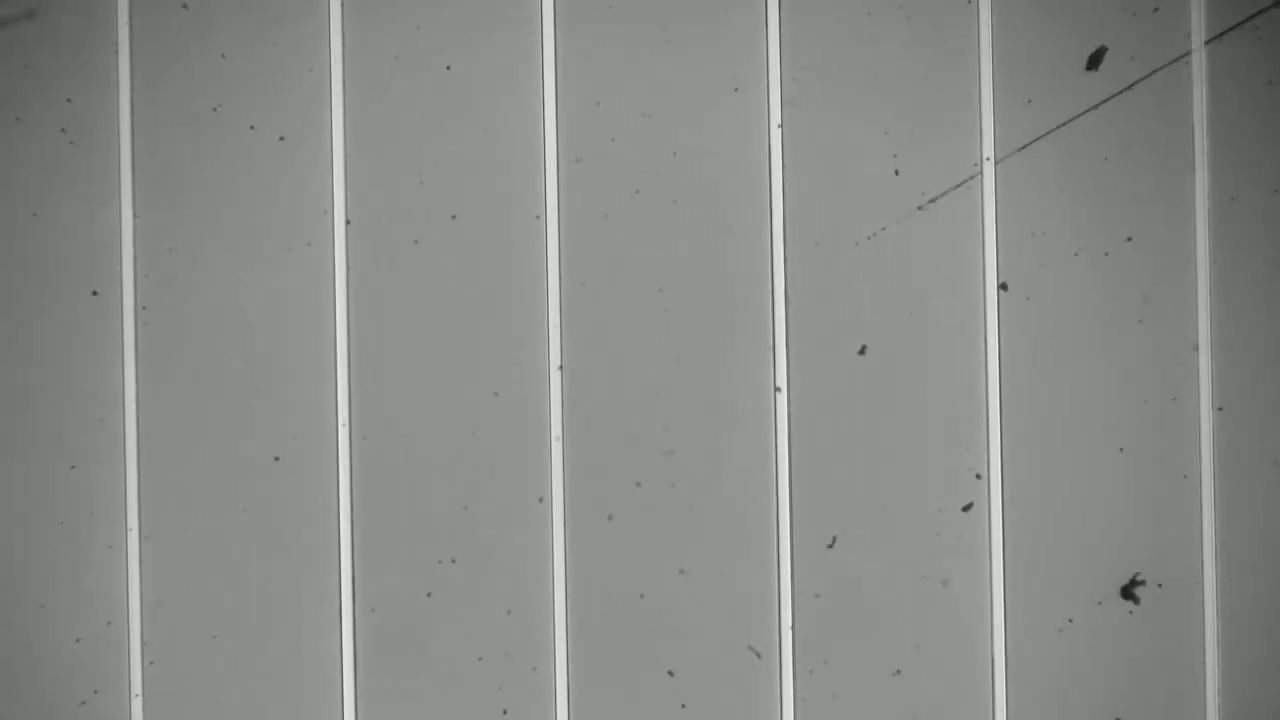scratch: (859, 4, 1275, 243)
